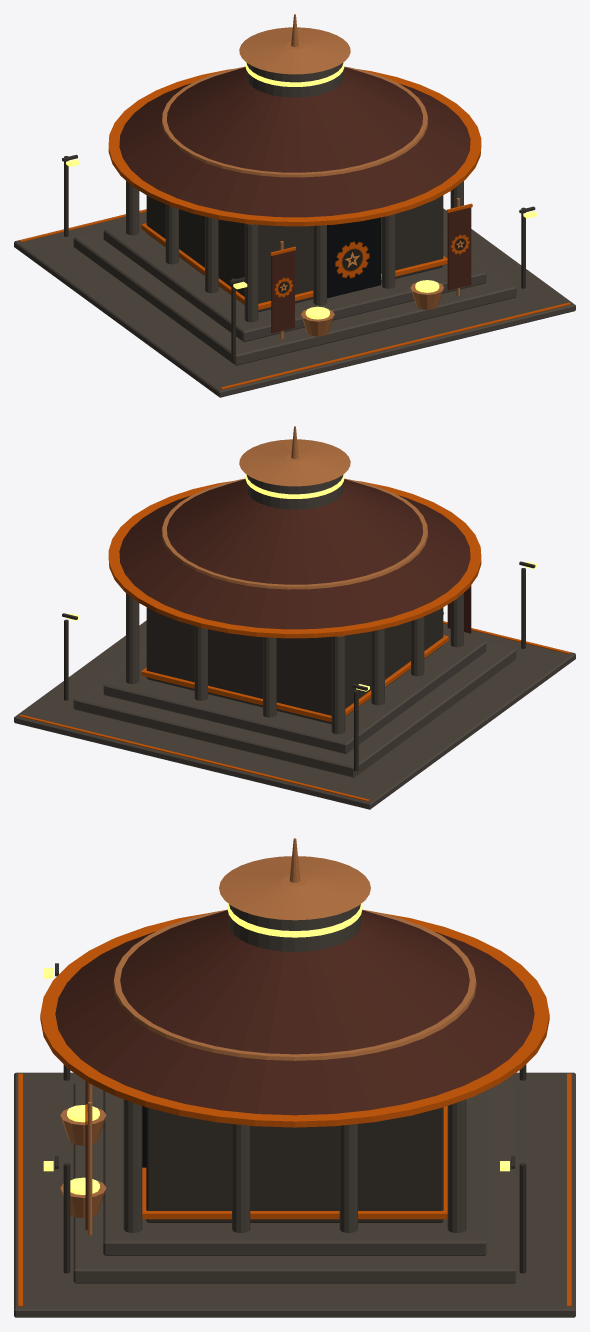
File: Thorvald_ContractHall.fbx
3 renders of one model, top to bottom at view 1: azimuth 30°, elevation 25°; view 2: azimuth 150°, elevation 25°; view 3: azimuth 270°, elevation 25°, orthographic. The views are drawn at different scales.
Visible parts, largest first — view 1: Thorvald_ContractHall; view 2: Thorvald_ContractHall; view 3: Thorvald_ContractHall.
Boxes of the visible parts, x1=… form: Thorvald_ContractHall: x1=14, y1=14, x2=575, y2=397; Thorvald_ContractHall: x1=14, y1=426, x2=575, y2=809; Thorvald_ContractHall: x1=14, y1=838, x2=575, y2=1317.
Bounding box in the file's own units: 17 × 12.05 × 17.
Materials: 9 (1 with a texture image).
